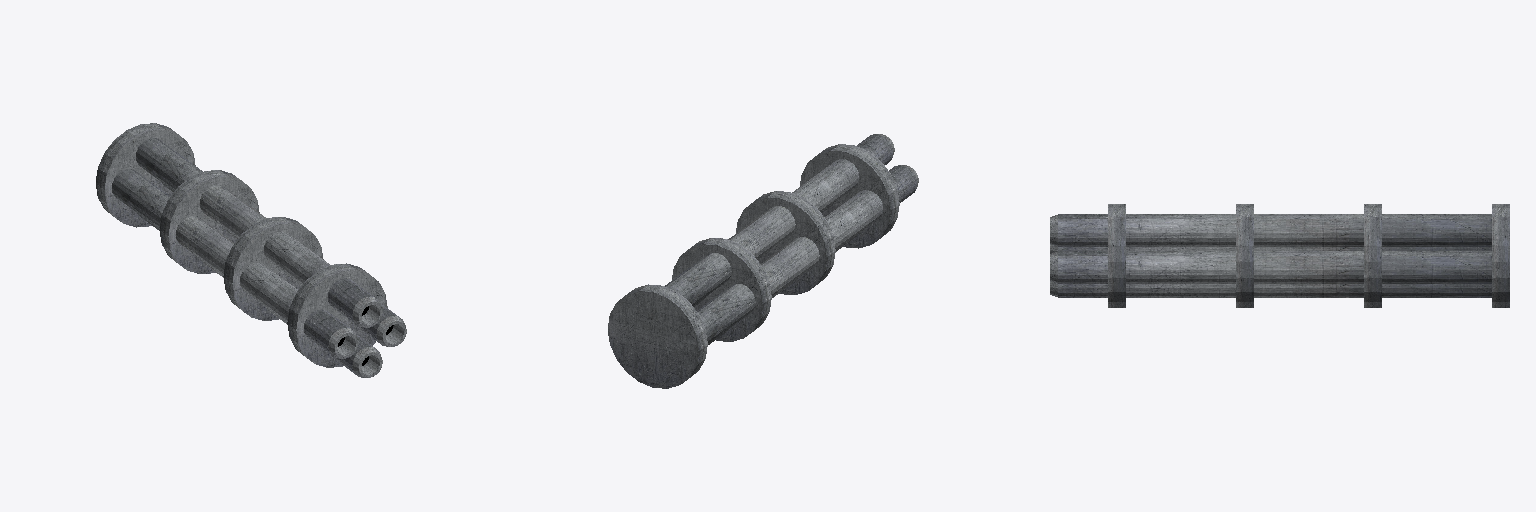
3 views of the same model, side by side, from view 1: azimuth 30°, elevation 25°; view 2: azimuth 150°, elevation 25°; view 3: azimuth 270°, elevation 25° (orthographic).
Visible parts, largest first — view 1: pCylinder12; view 2: pCylinder12; view 3: pCylinder12.
Boxes of the visible parts, x1=… form: pCylinder12: x1=96, y1=123, x2=406, y2=377; pCylinder12: x1=608, y1=134, x2=918, y2=388; pCylinder12: x1=1050, y1=204, x2=1509, y2=307.
Size of the model in its own units: 1.32 by 1.32 by 5.72.
Materials: 1 (1 with a texture image).